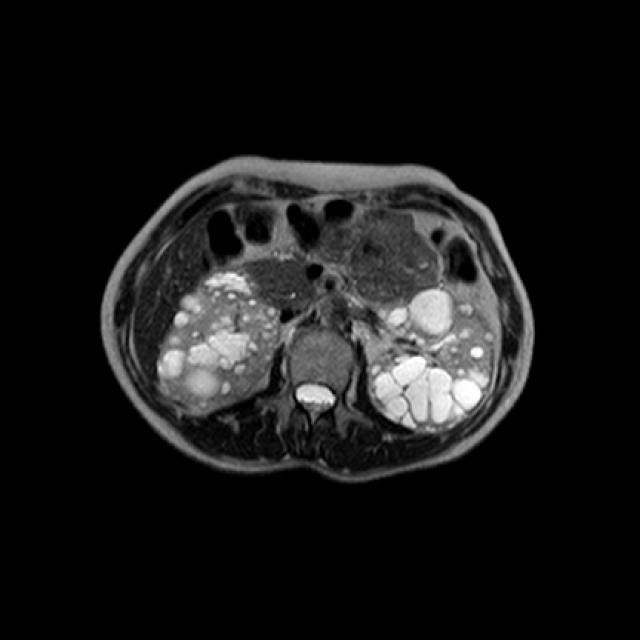sag: (155, 286, 281, 410)
sol: (366, 285, 496, 432)
